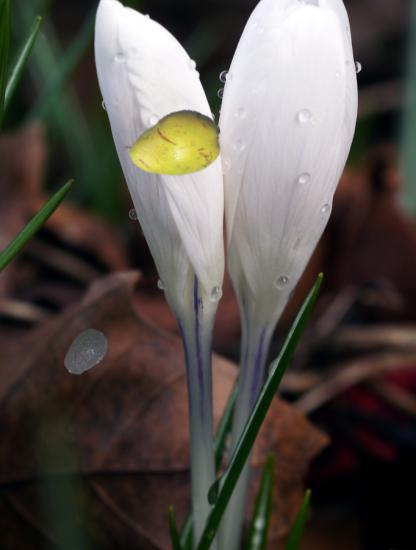Avocado: (60, 326, 113, 379)
Pear: (124, 96, 222, 194)
